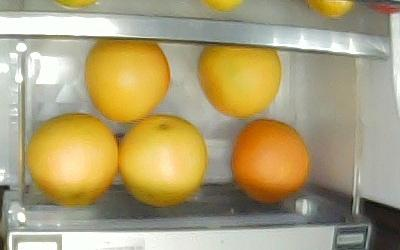grapefruit: (26, 110, 118, 205), (117, 113, 208, 206), (82, 37, 171, 123), (229, 117, 310, 203), (196, 43, 282, 118)
